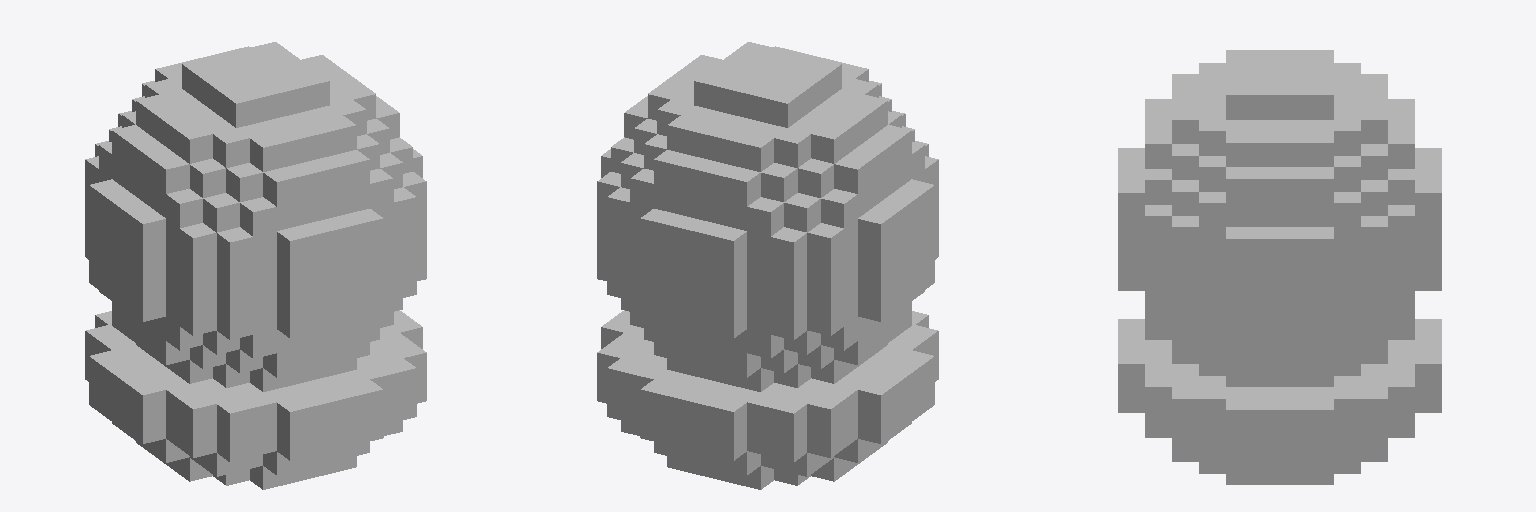
The model's file is candle.obj.
3 renders of one model, left to right at view 1: azimuth 30°, elevation 25°; view 2: azimuth 150°, elevation 25°; view 3: azimuth 270°, elevation 25°, orthographic.
Parts seen in each view (by area): view 1: object 1; view 2: object 1; view 3: object 1.
Part boxes in pixels (left/top/right/bottom): object 1: left=85, top=42, right=426, bottom=489; object 1: left=597, top=42, right=938, bottom=489; object 1: left=1118, top=50, right=1441, bottom=484.
Size of the model in its own units: 1.2 by 1.5 by 1.2.